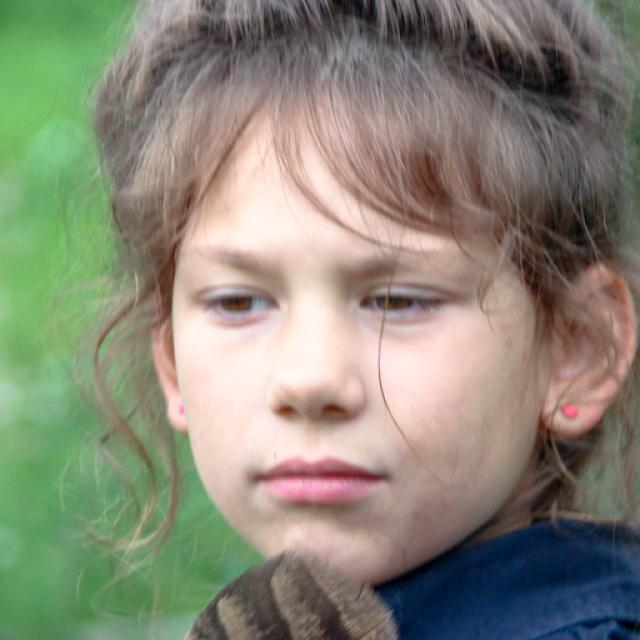sad: (172, 91, 544, 580)
